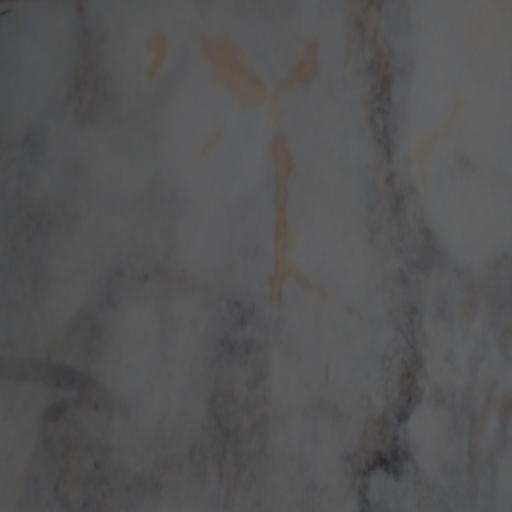stain: (336, 17, 512, 512), (17, 240, 301, 512), (152, 14, 357, 330), (0, 0, 196, 265)
